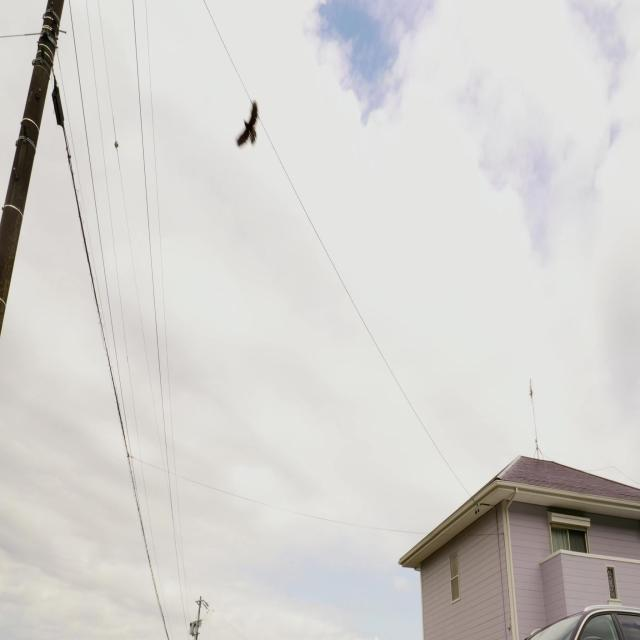Birds: (230, 95, 268, 154)
